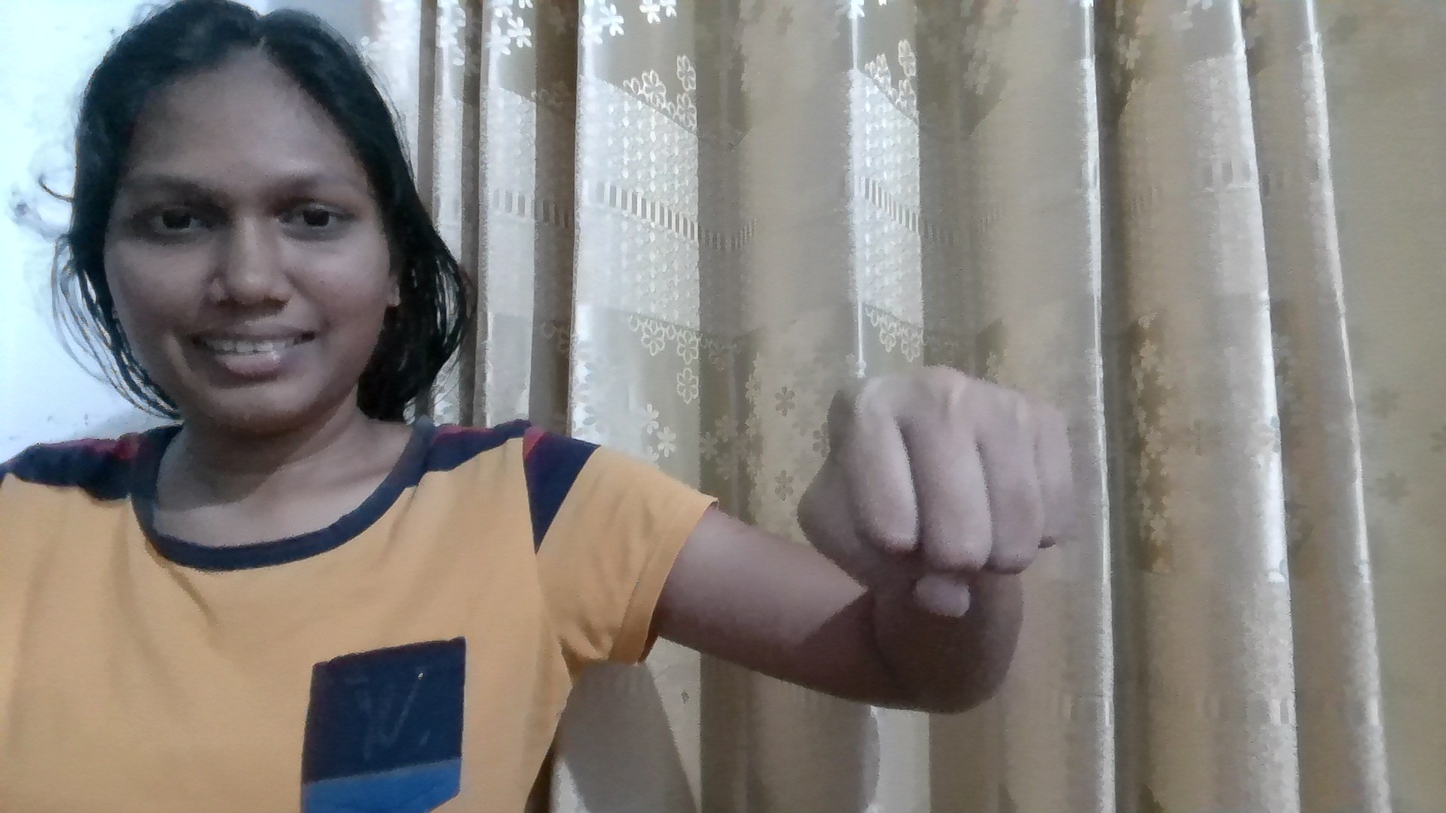Yes: (764, 258, 1108, 749)
